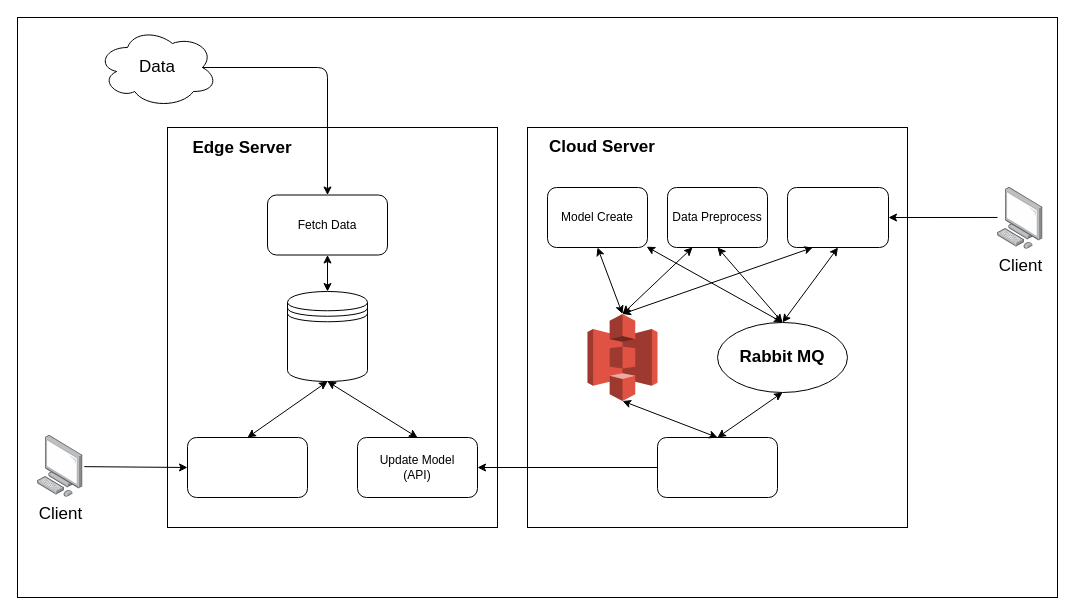
Some shapes in this 1075 by 615 pixel diagram are drawn without their labels. Here are the shapes that lost their labels. From the top down, the centre of each, then its label:
At (x=837, y=217): "Upload Data (API)".
At (x=327, y=336): "Minio".
At (x=247, y=467): "Predict (API)".
At (x=717, y=467): "Model Deploy".
